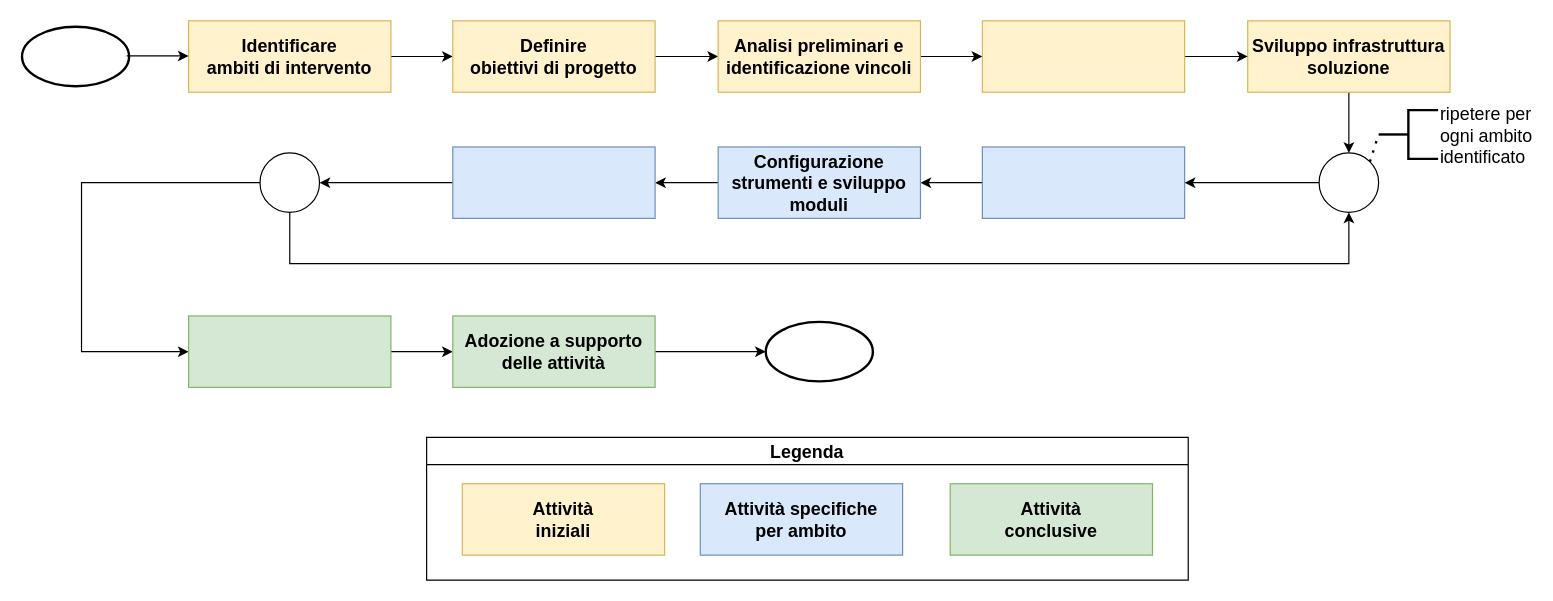
The diagram is 1553 pixels wide and 601 high, and some of its shapes have lost their labels. Each missing label, with the box of its shape:
Definire strumenti a supporto: (981, 20, 1185, 92)
Fine: (764, 320, 873, 382)
Inizio: (20, 25, 130, 87)
Integrazione risultati: (452, 146, 655, 218)
Validazione risultati: (187, 315, 391, 387)
Valutazione as-is e proposta to-be: (981, 146, 1185, 218)
